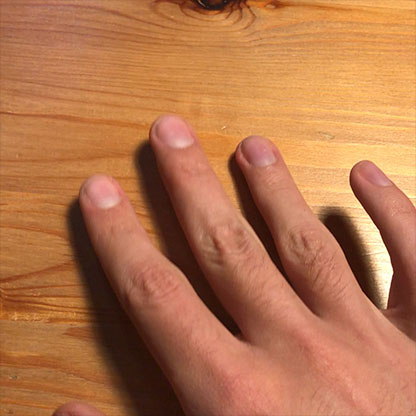fingertip: (71, 167, 136, 223), (140, 104, 204, 160), (229, 128, 289, 173), (348, 152, 400, 200)
